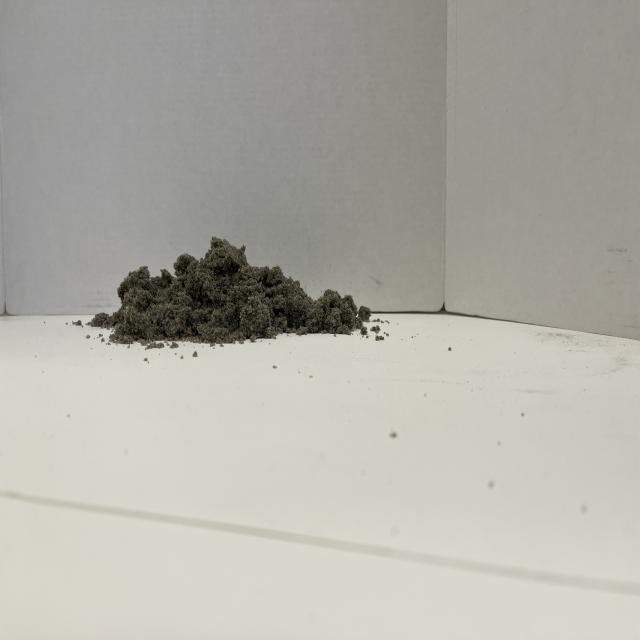sand: (109, 230, 351, 353)
